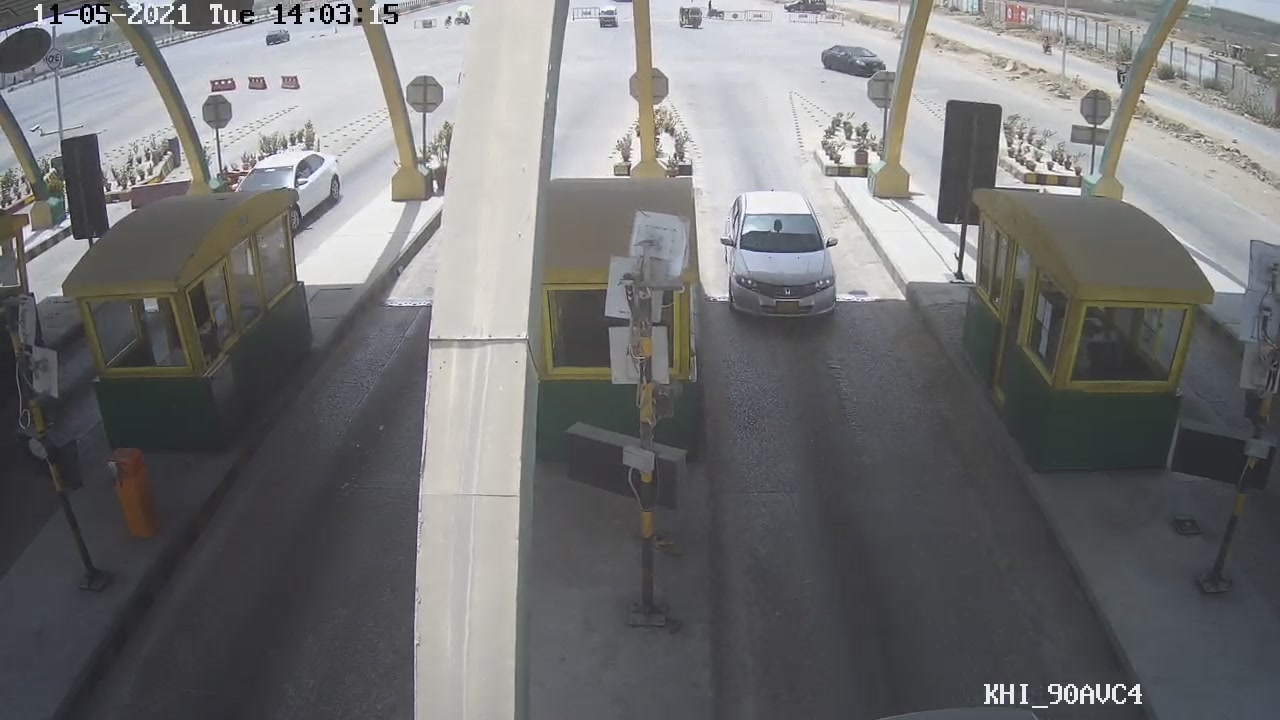F1: (710, 190, 859, 330)
